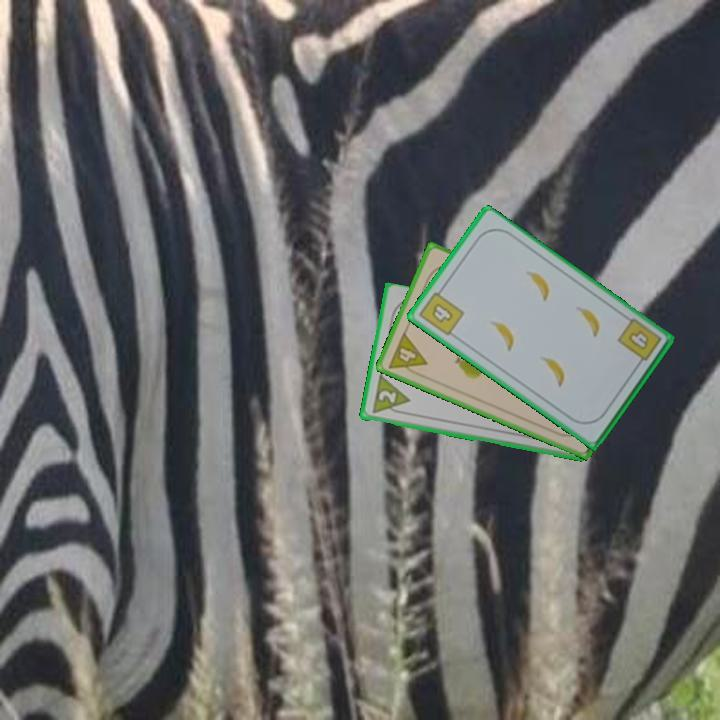2p: (368, 373, 412, 418)
4b: (415, 283, 467, 339), (614, 314, 664, 370)
4p: (384, 329, 430, 380)
